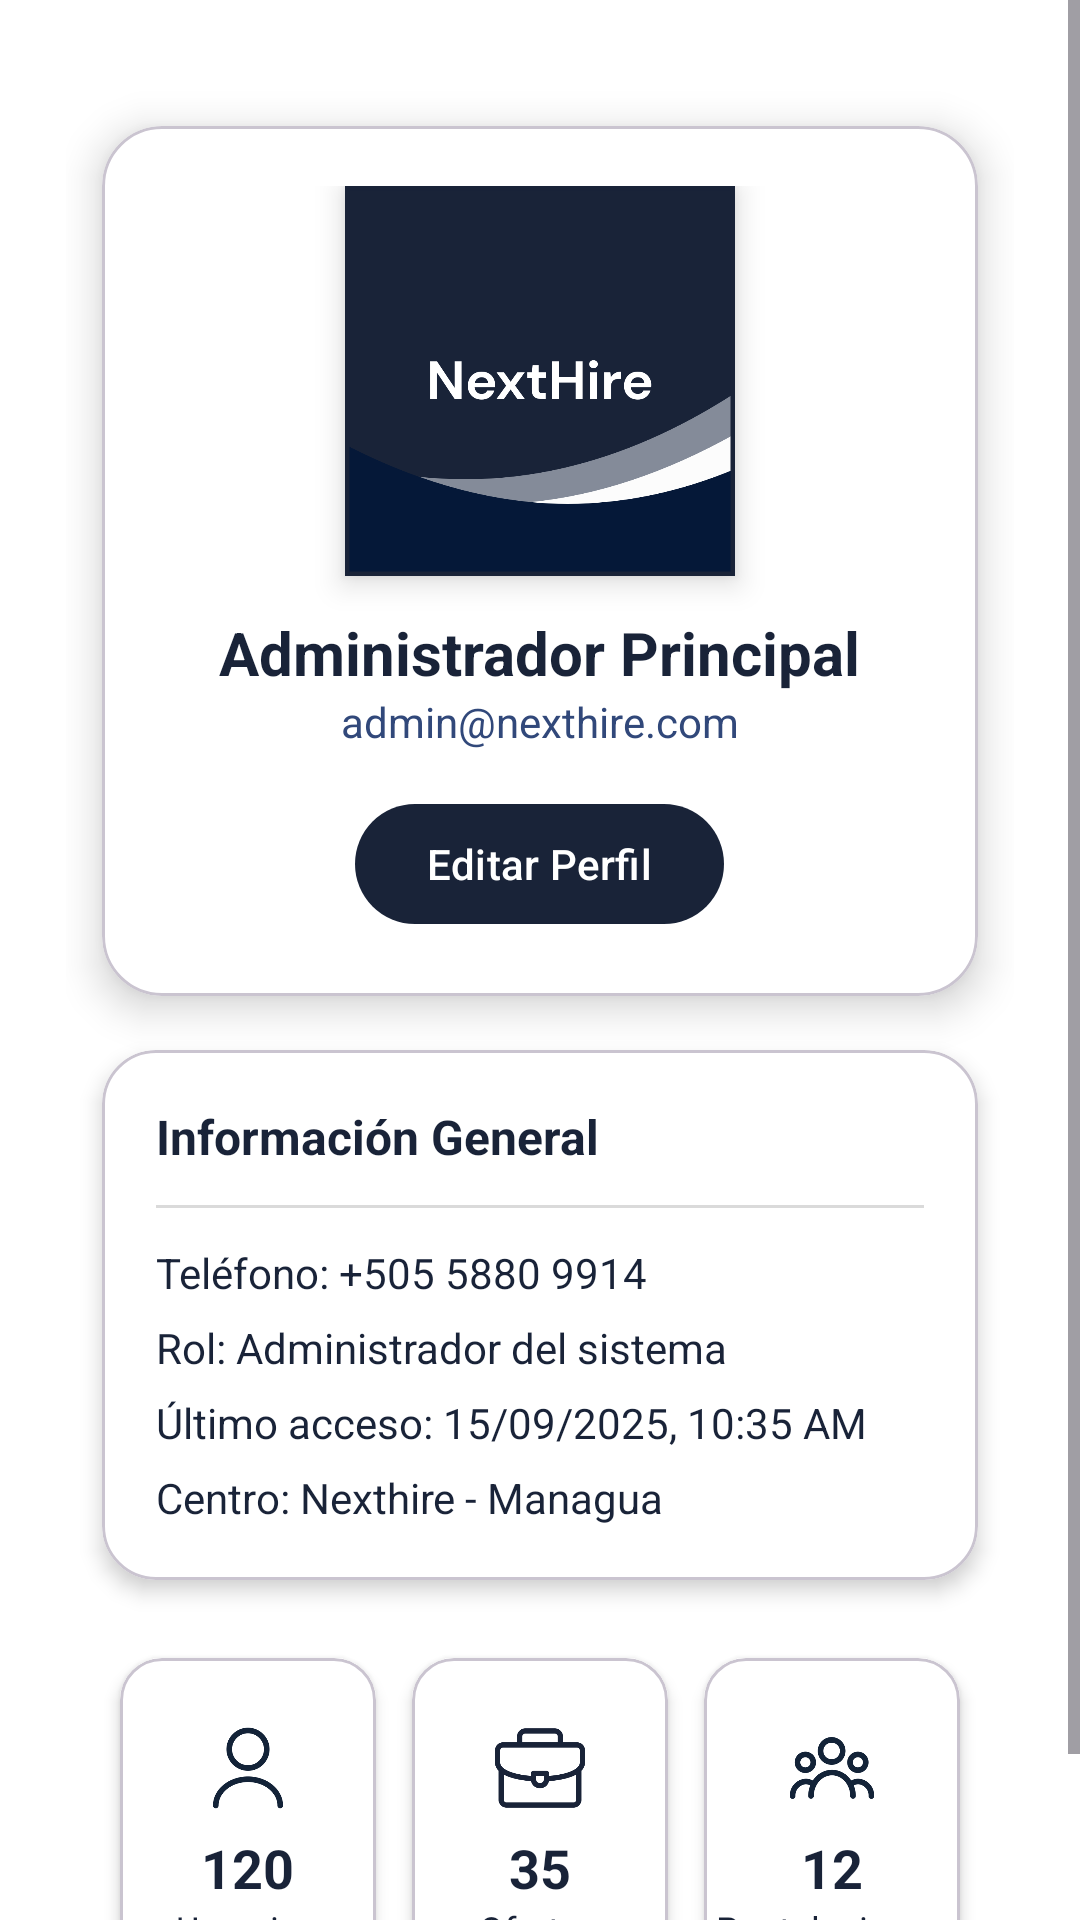

Named icons in this screenshot (1080x1920) and their centers, [x,y]:
briefcase: [540,1768]
profilee: [248,1768]
